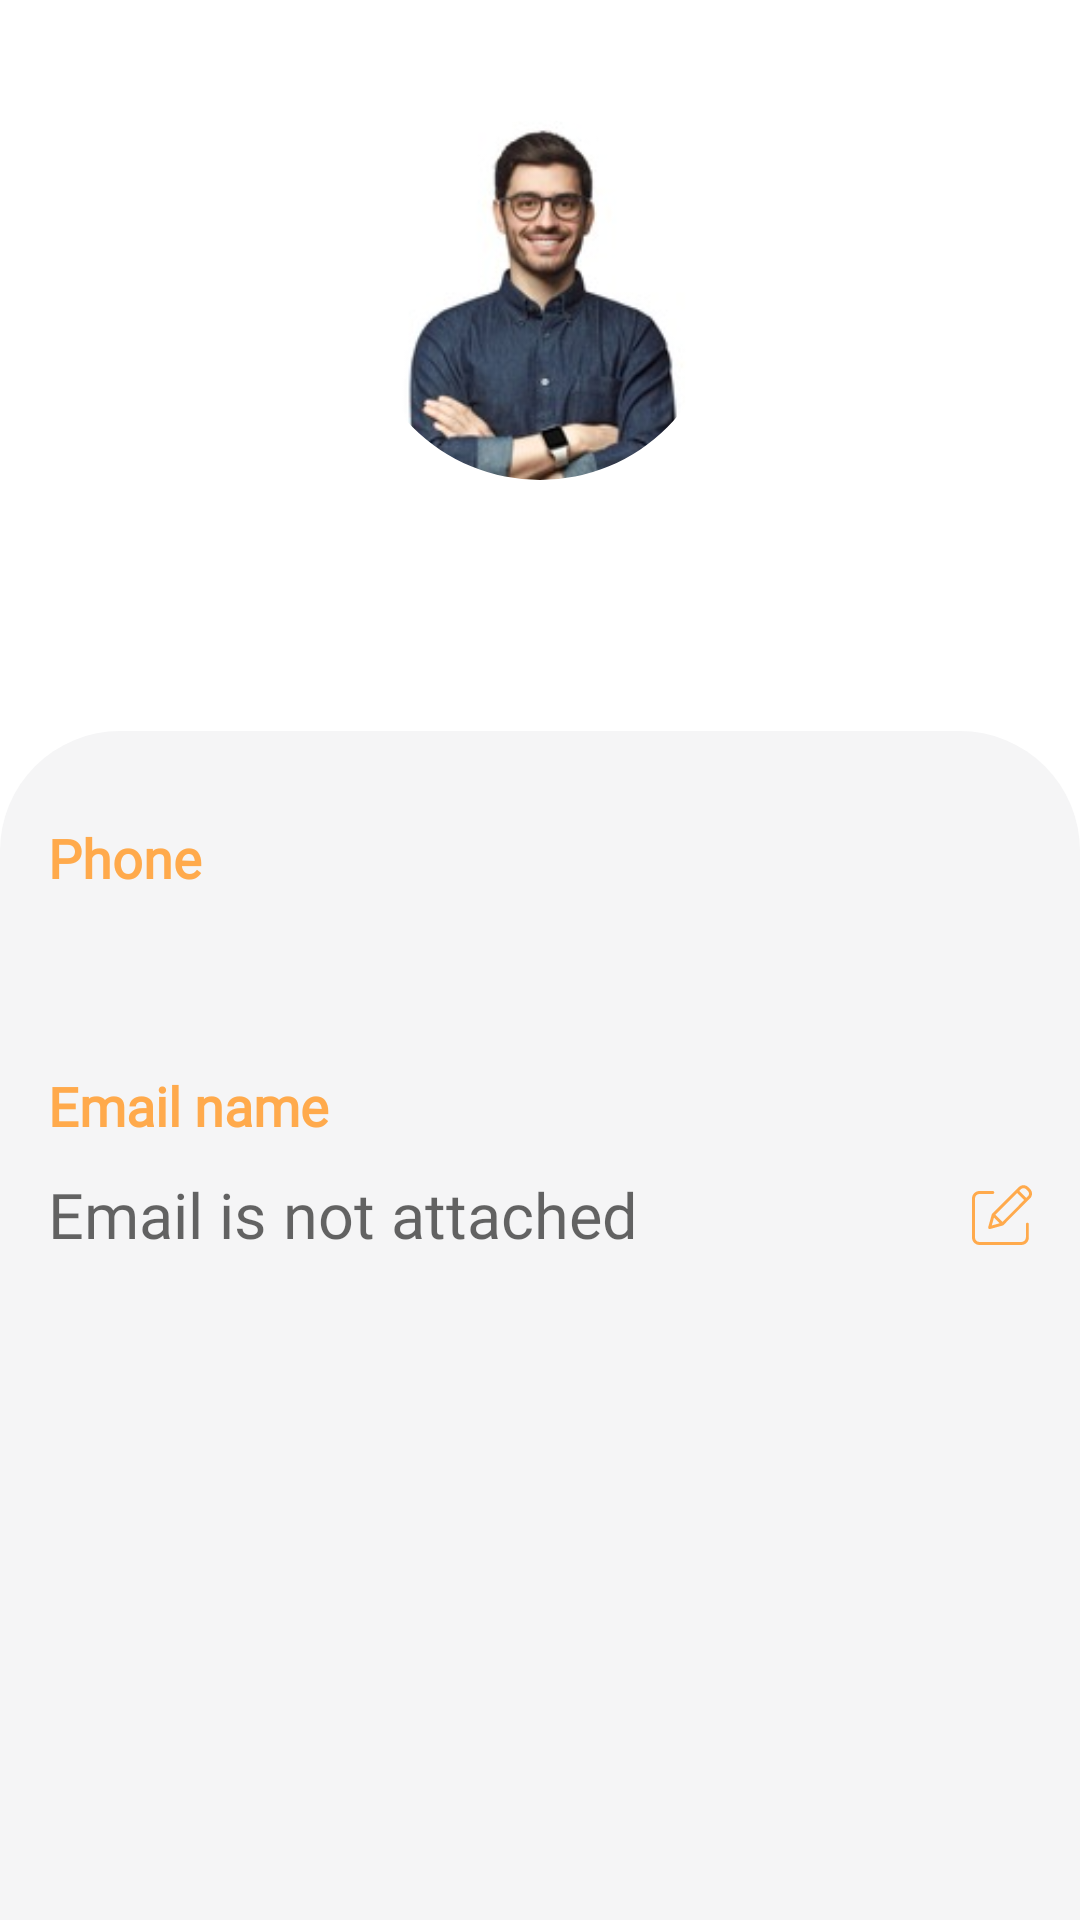

Icons on this 1080x1920 Android screen, each with its box as bbox=[x1, y1, x2, y2]:
edit: bbox=[972, 1185, 1032, 1245]
user: bbox=[408, 130, 677, 480]
